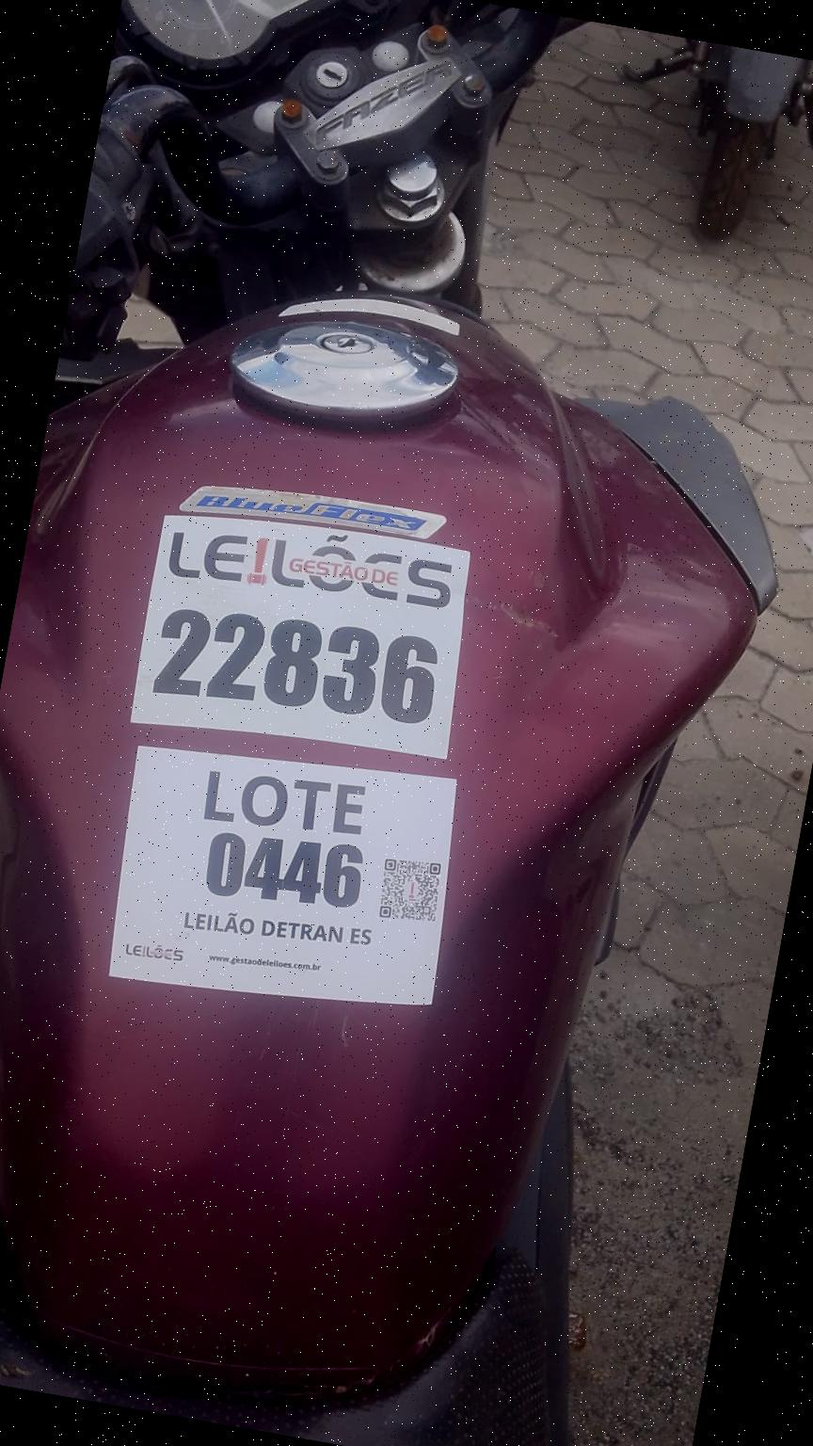Caractere: (142, 585, 450, 750)
